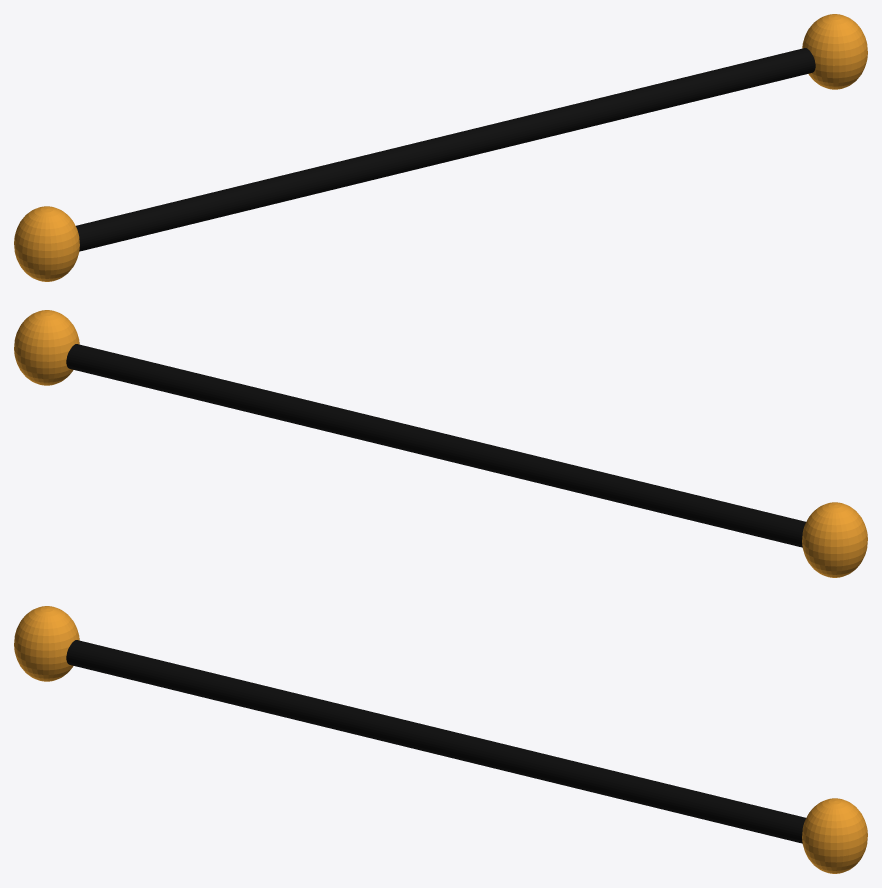
The model's file is arsenal_banner_2.fbx.
The picture shows the model from 3 angles, top to bottom: view 1: azimuth 30°, elevation 25°; view 2: azimuth 150°, elevation 25°; view 3: azimuth 330°, elevation 25°; orthographic projection.
Parts seen in each view (by area): view 1: Cylinder, Sphere, Sphere.001; view 2: Cylinder, Sphere, Sphere.001; view 3: Cylinder, Sphere.001, Sphere.
Part boxes in pixels (<box>): Cylinder: <box>76,48,815,251</box>; Sphere: <box>14,206,79,281</box>; Sphere.001: <box>802,14,867,89</box>; Cylinder: <box>66,344,805,547</box>; Sphere: <box>802,502,867,577</box>; Sphere.001: <box>14,310,79,385</box>; Cylinder: <box>66,640,805,843</box>; Sphere.001: <box>802,798,867,873</box>; Sphere: <box>14,606,79,681</box>.
Size of the model in its own units: 1075 by 85.34 by 73.29.
